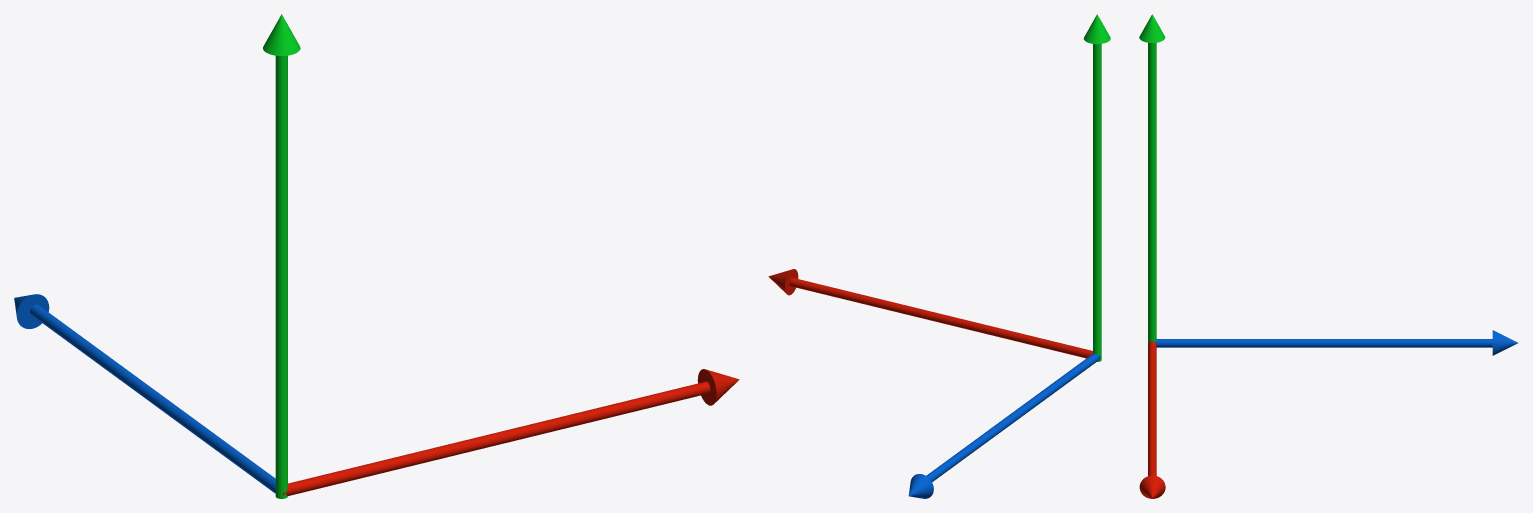
File: Gizmo.fbx
3 views of the same model, side by side, from view 1: azimuth 30°, elevation 25°; view 2: azimuth 150°, elevation 25°; view 3: azimuth 270°, elevation 25° (orthographic). The views are drawn at different scales.
Visible parts, largest first — view 1: Cone; view 2: Cone; view 3: Cone.
Part boxes in pixels (left/top/right/bottom): Cone: left=14, top=14, right=739, bottom=498; Cone: left=768, top=14, right=1110, bottom=498; Cone: left=1139, top=14, right=1517, bottom=498.
Size of the model in its own units: 2.23 by 2.21 by 2.22.
